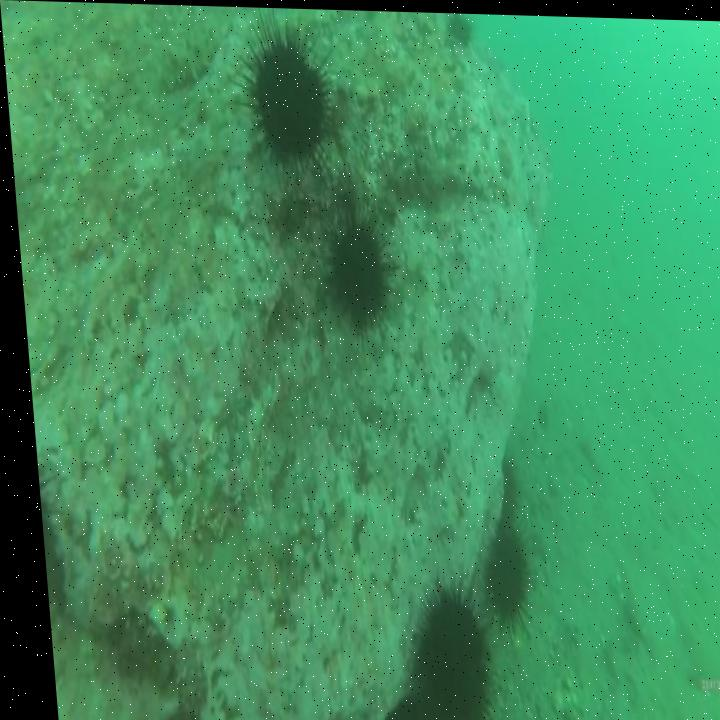echinus: (225, 5, 337, 180), (385, 571, 489, 720), (311, 195, 402, 341), (468, 521, 528, 641), (484, 451, 518, 529), (442, 11, 476, 47)
